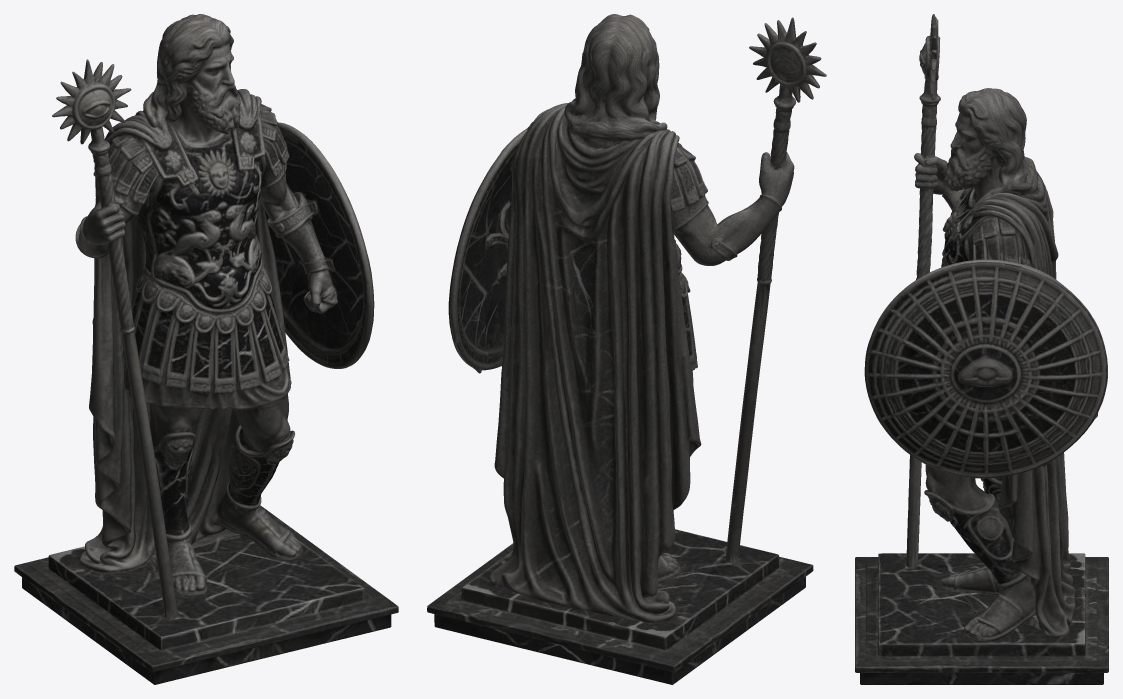
File: charismatic-prophet.glb
The picture shows the model from 3 angles, left to right: view 1: azimuth 30°, elevation 25°; view 2: azimuth 150°, elevation 25°; view 3: azimuth 270°, elevation 25°; orthographic projection. The views are drawn at different scales.
Bounding box in the file's own units: 1.03 × 1.9 × 0.7913.
Materials: 1 (1 with a texture image).
